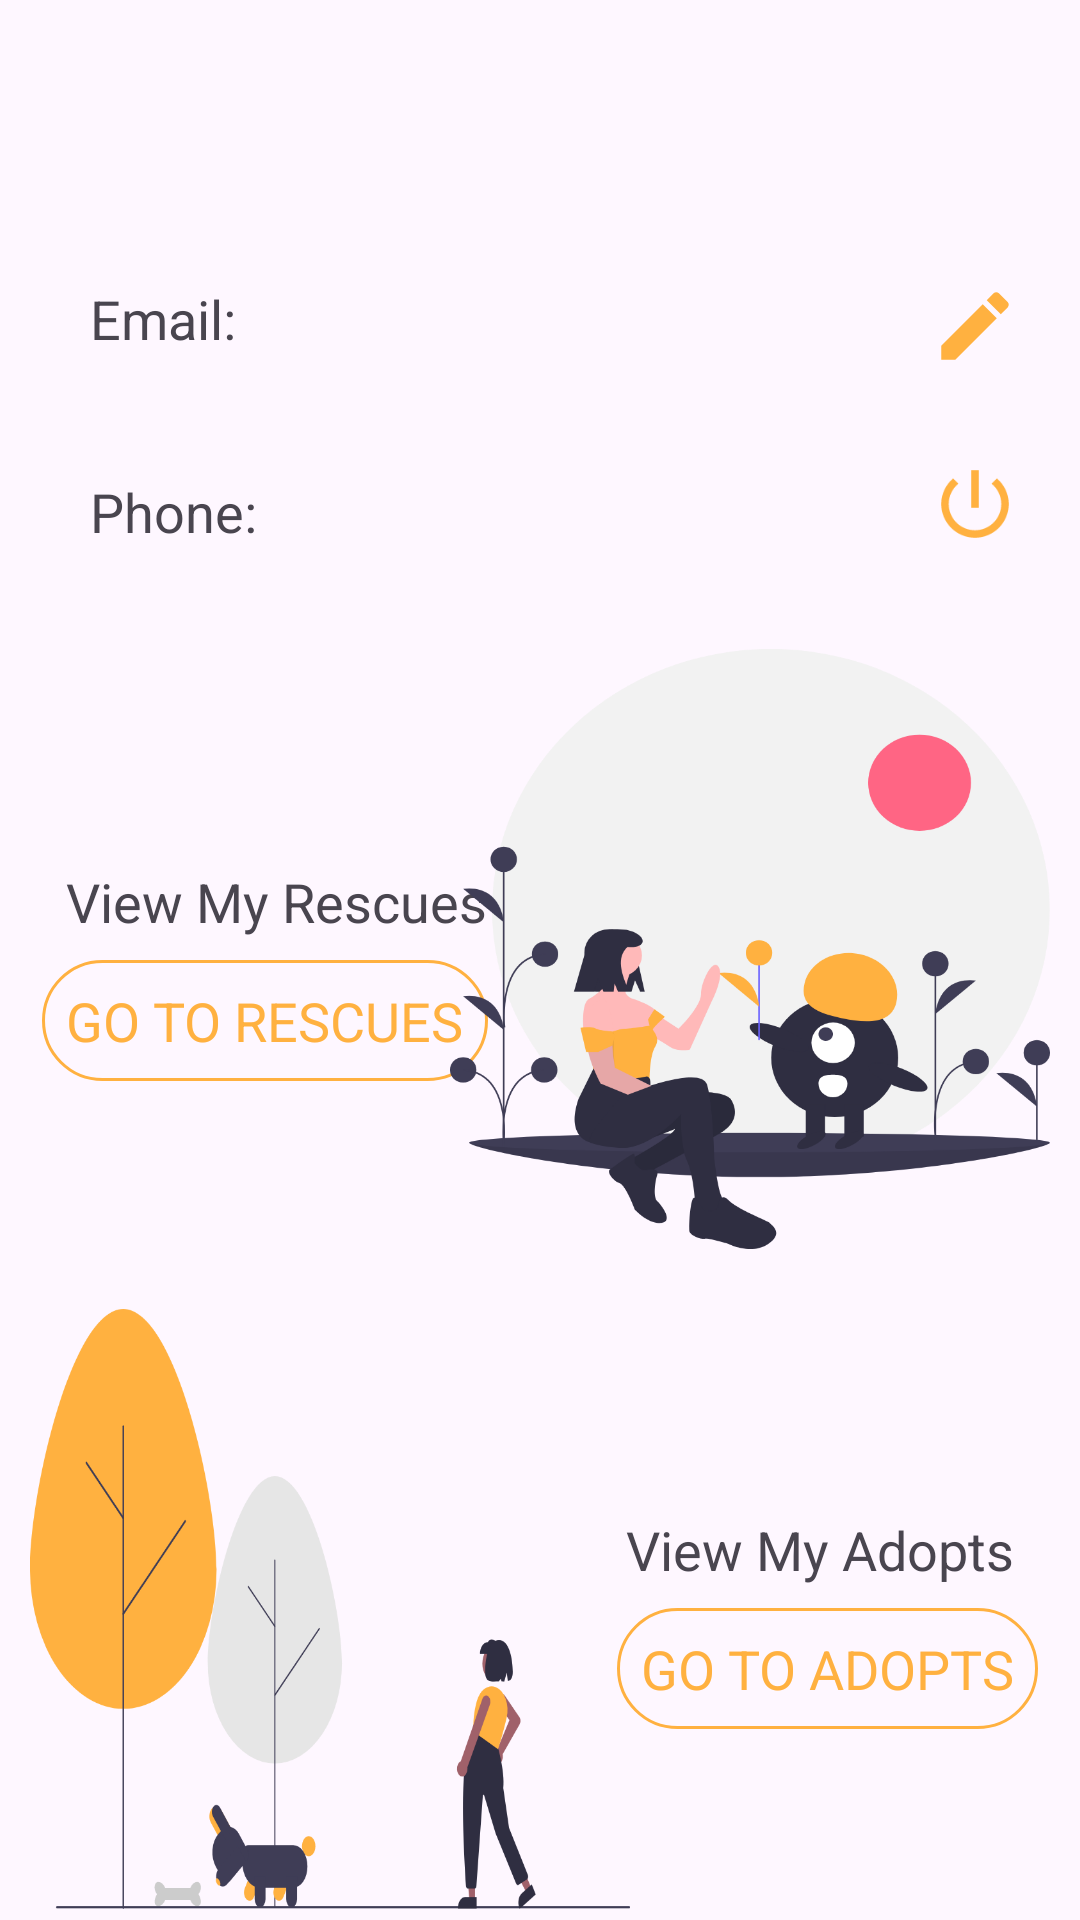

Icons on this 1080*1920 Android screen, each with the point to tap as [x,y]:
edit: [975,326]
settings power: [975,504]
